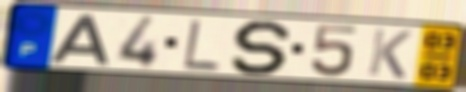4: (113, 14, 162, 70)
5: (310, 24, 361, 78)
A: (47, 13, 112, 67)
K: (364, 26, 415, 81)
L: (180, 17, 222, 73)
S: (228, 19, 298, 76)
